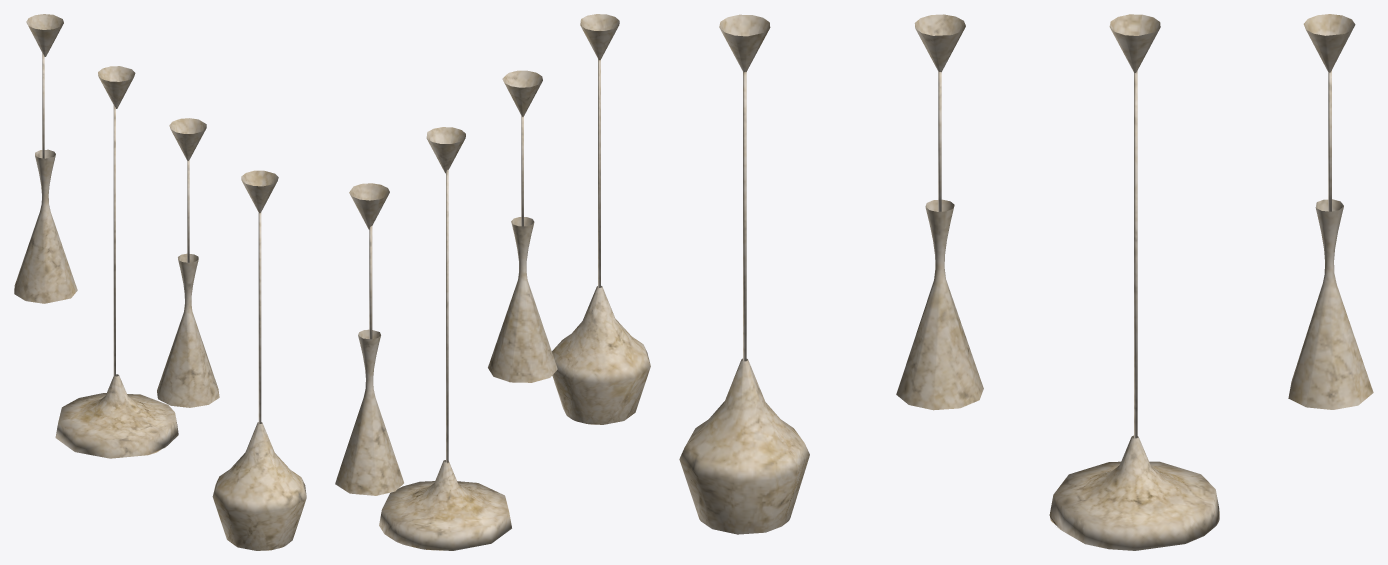
File: Light_1.fbx
3 views of the same model, side by side, from view 1: azimuth 30°, elevation 25°; view 2: azimuth 150°, elevation 25°; view 3: azimuth 270°, elevation 25° (orthographic). The views are drawn at different scales.
Parts seen in each view (by area): view 1: Obj3d66-707242-43-731.001; view 2: Obj3d66-707242-43-731.001; view 3: Obj3d66-707242-43-731.001.
Part boxes in pixels (bbox=[...]): Obj3d66-707242-43-731.001: bbox=[14, 14, 306, 550]; Obj3d66-707242-43-731.001: bbox=[335, 14, 650, 550]; Obj3d66-707242-43-731.001: bbox=[679, 14, 1373, 550].
Size of the model in its own units: 0.377 by 1.22 by 1.57.
1 material, 1 textured.
